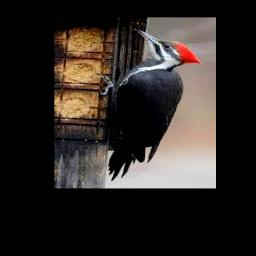Woodpecker: (99, 28, 203, 180)
